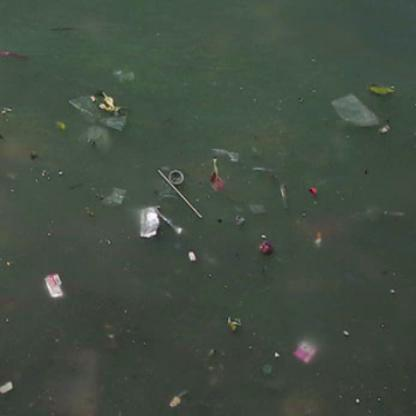Trash: (327, 89, 386, 139), (134, 201, 185, 245), (40, 269, 64, 305)
